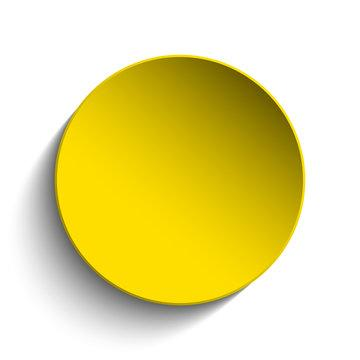yellow_circle: (51, 52, 307, 307)
